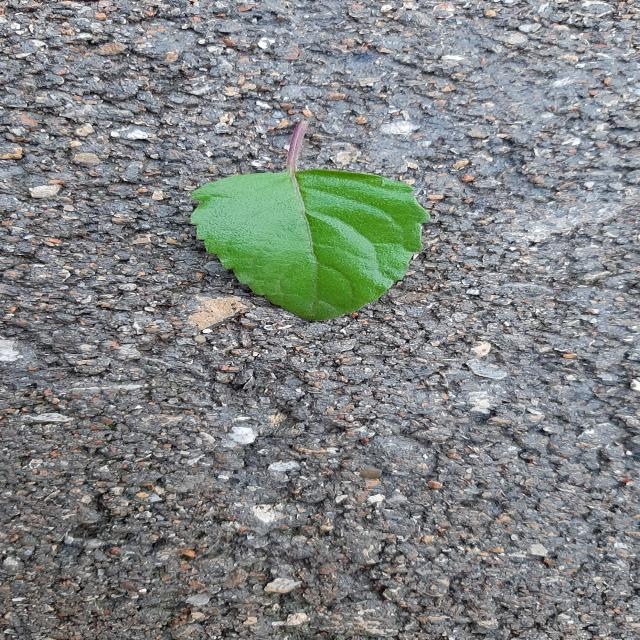tulsi: (190, 121, 428, 320)
